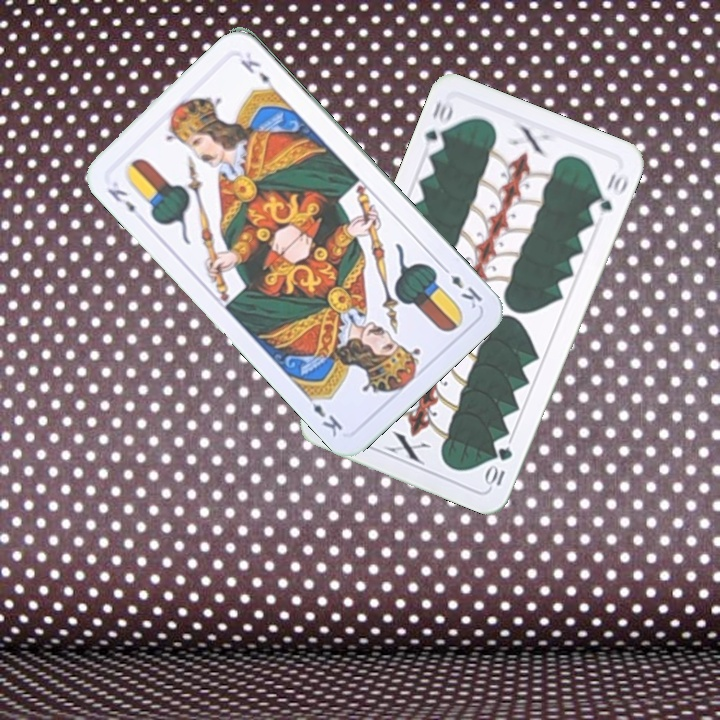EK: (437, 261, 485, 312), (103, 184, 145, 225)
G10: (420, 96, 456, 156), (482, 443, 515, 488)
